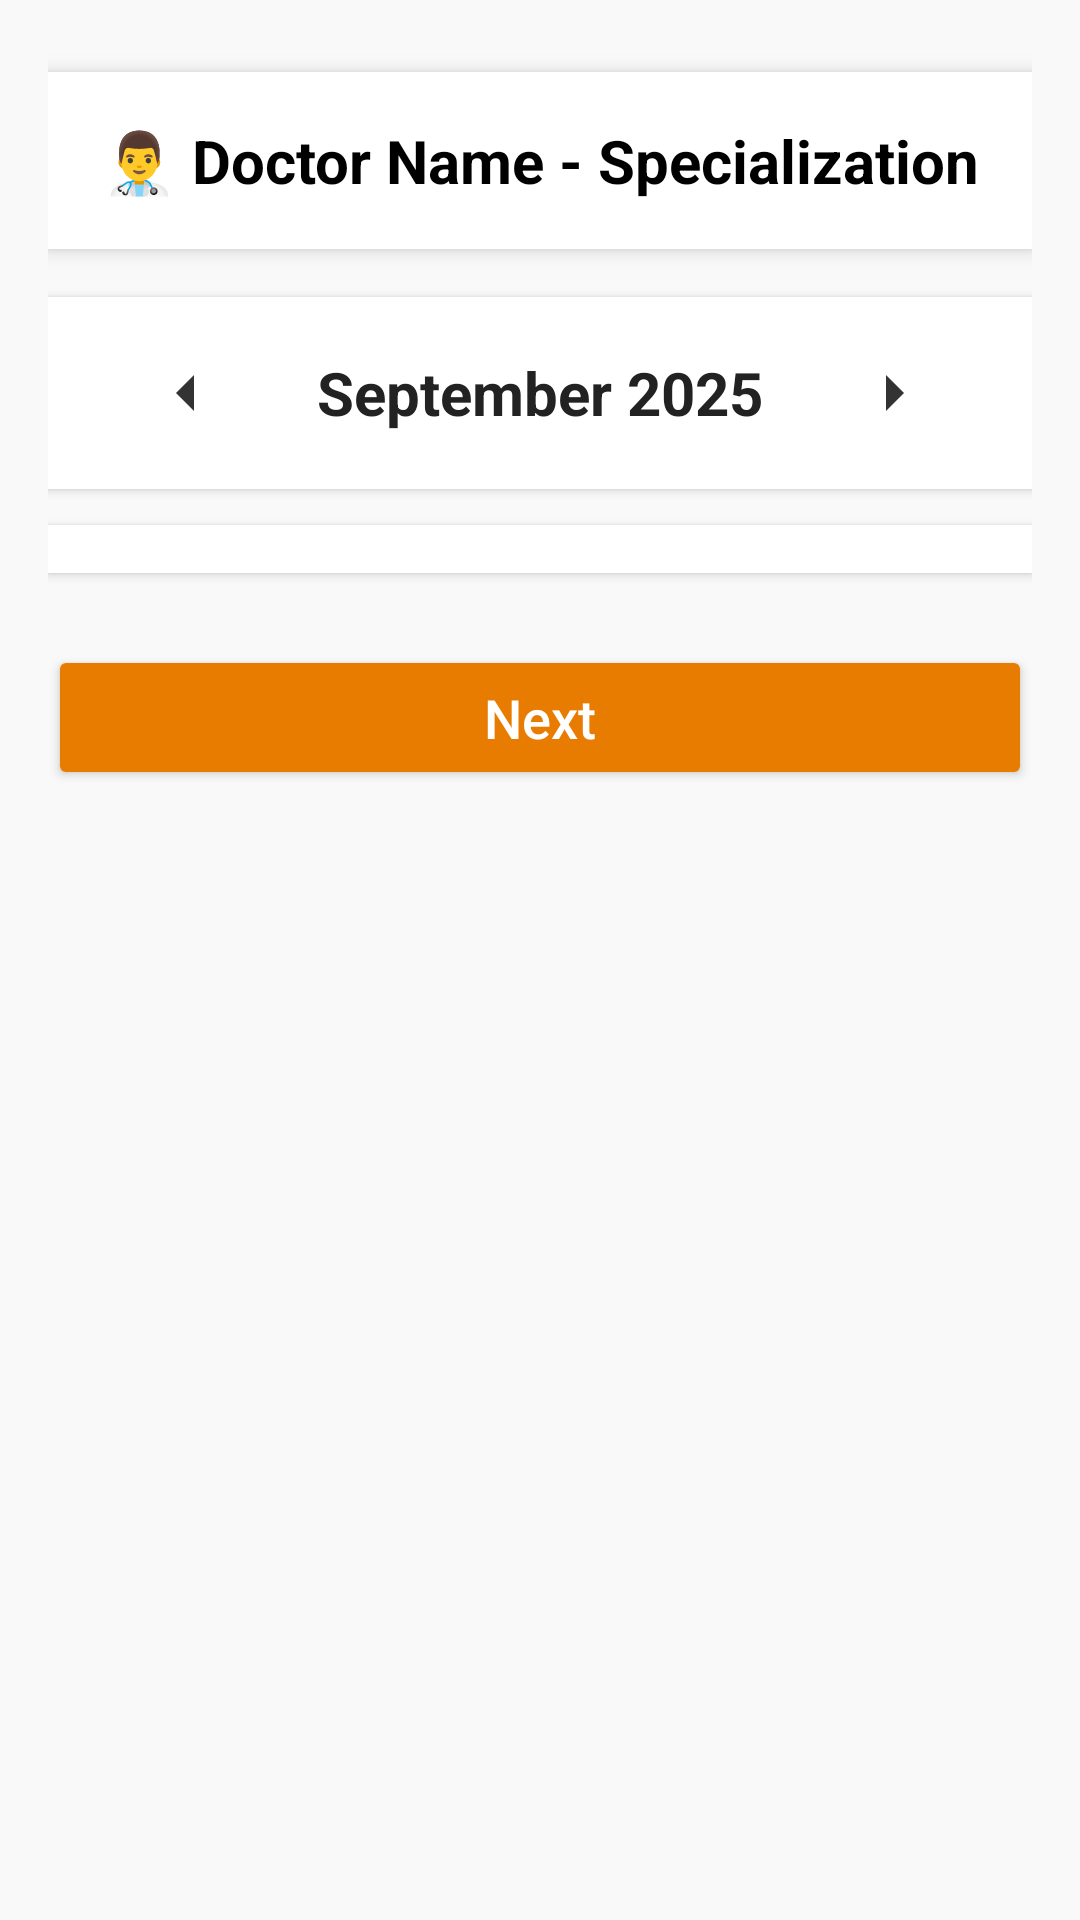

Icon bounding boxes for this 1080*1920 phone screenshot, format (x1, y1, x2, y2):
Next Month: (886, 375, 904, 411)
Previous Month: (176, 375, 194, 411)
